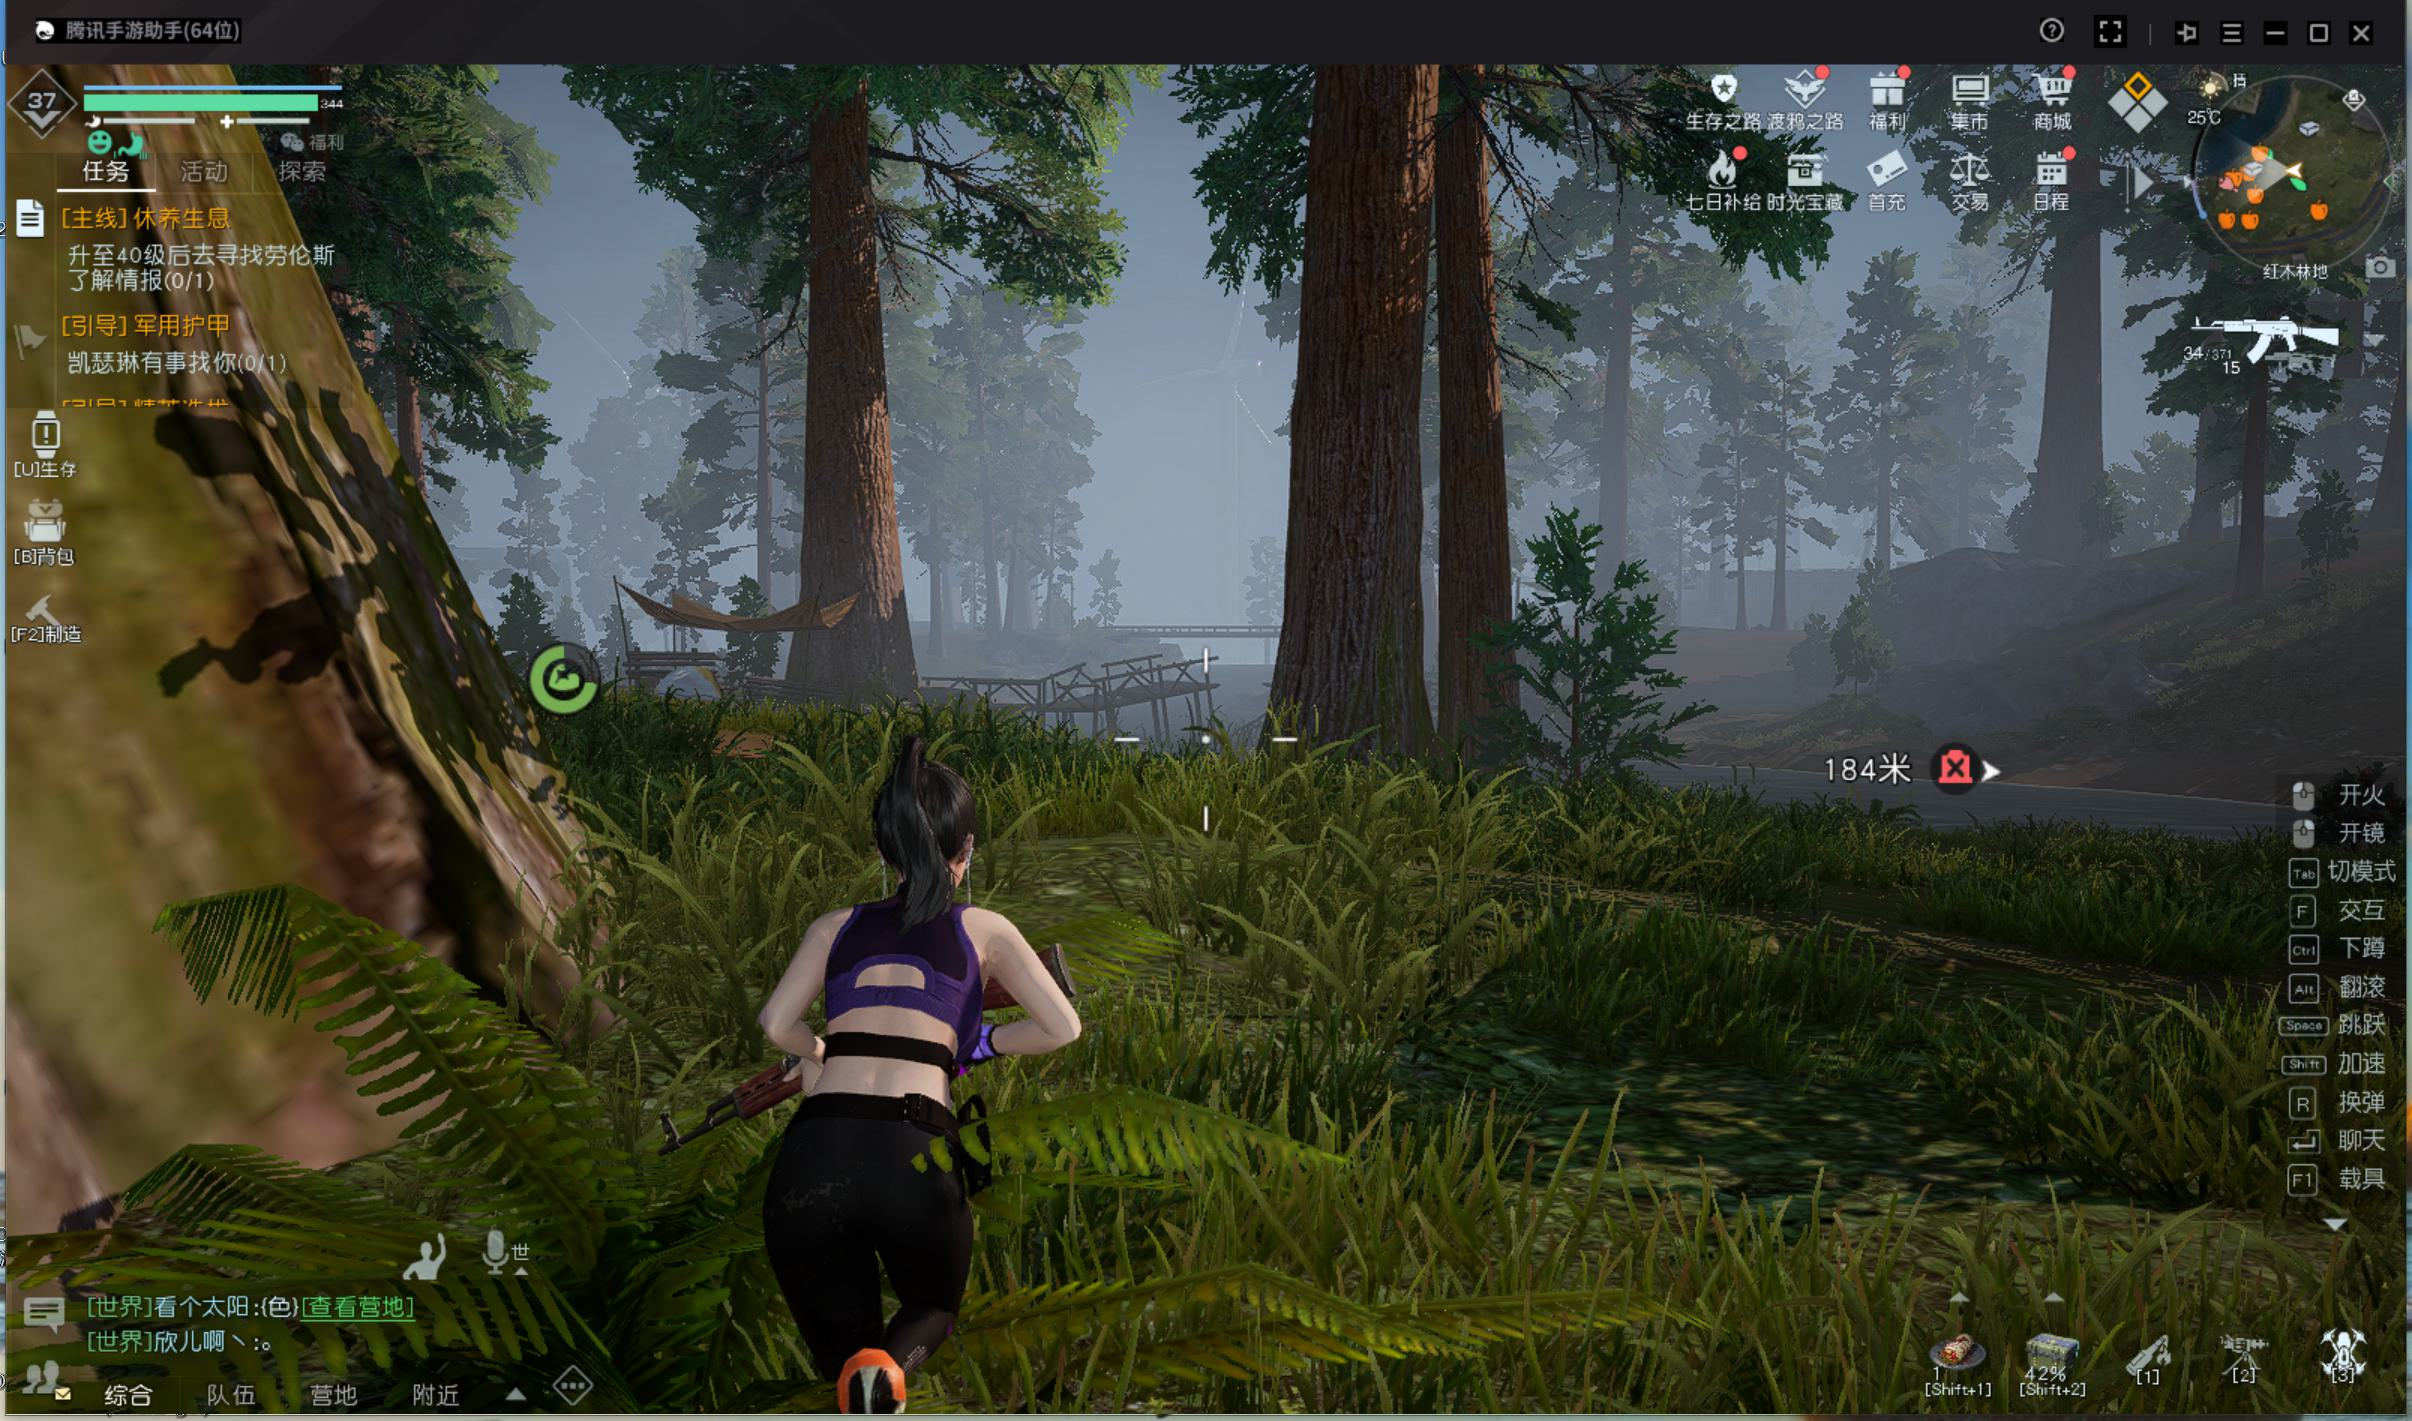tree: (1252, 267, 1424, 793), (780, 232, 924, 710), (1434, 259, 1519, 836), (2021, 217, 2118, 563), (1595, 299, 1636, 639)
